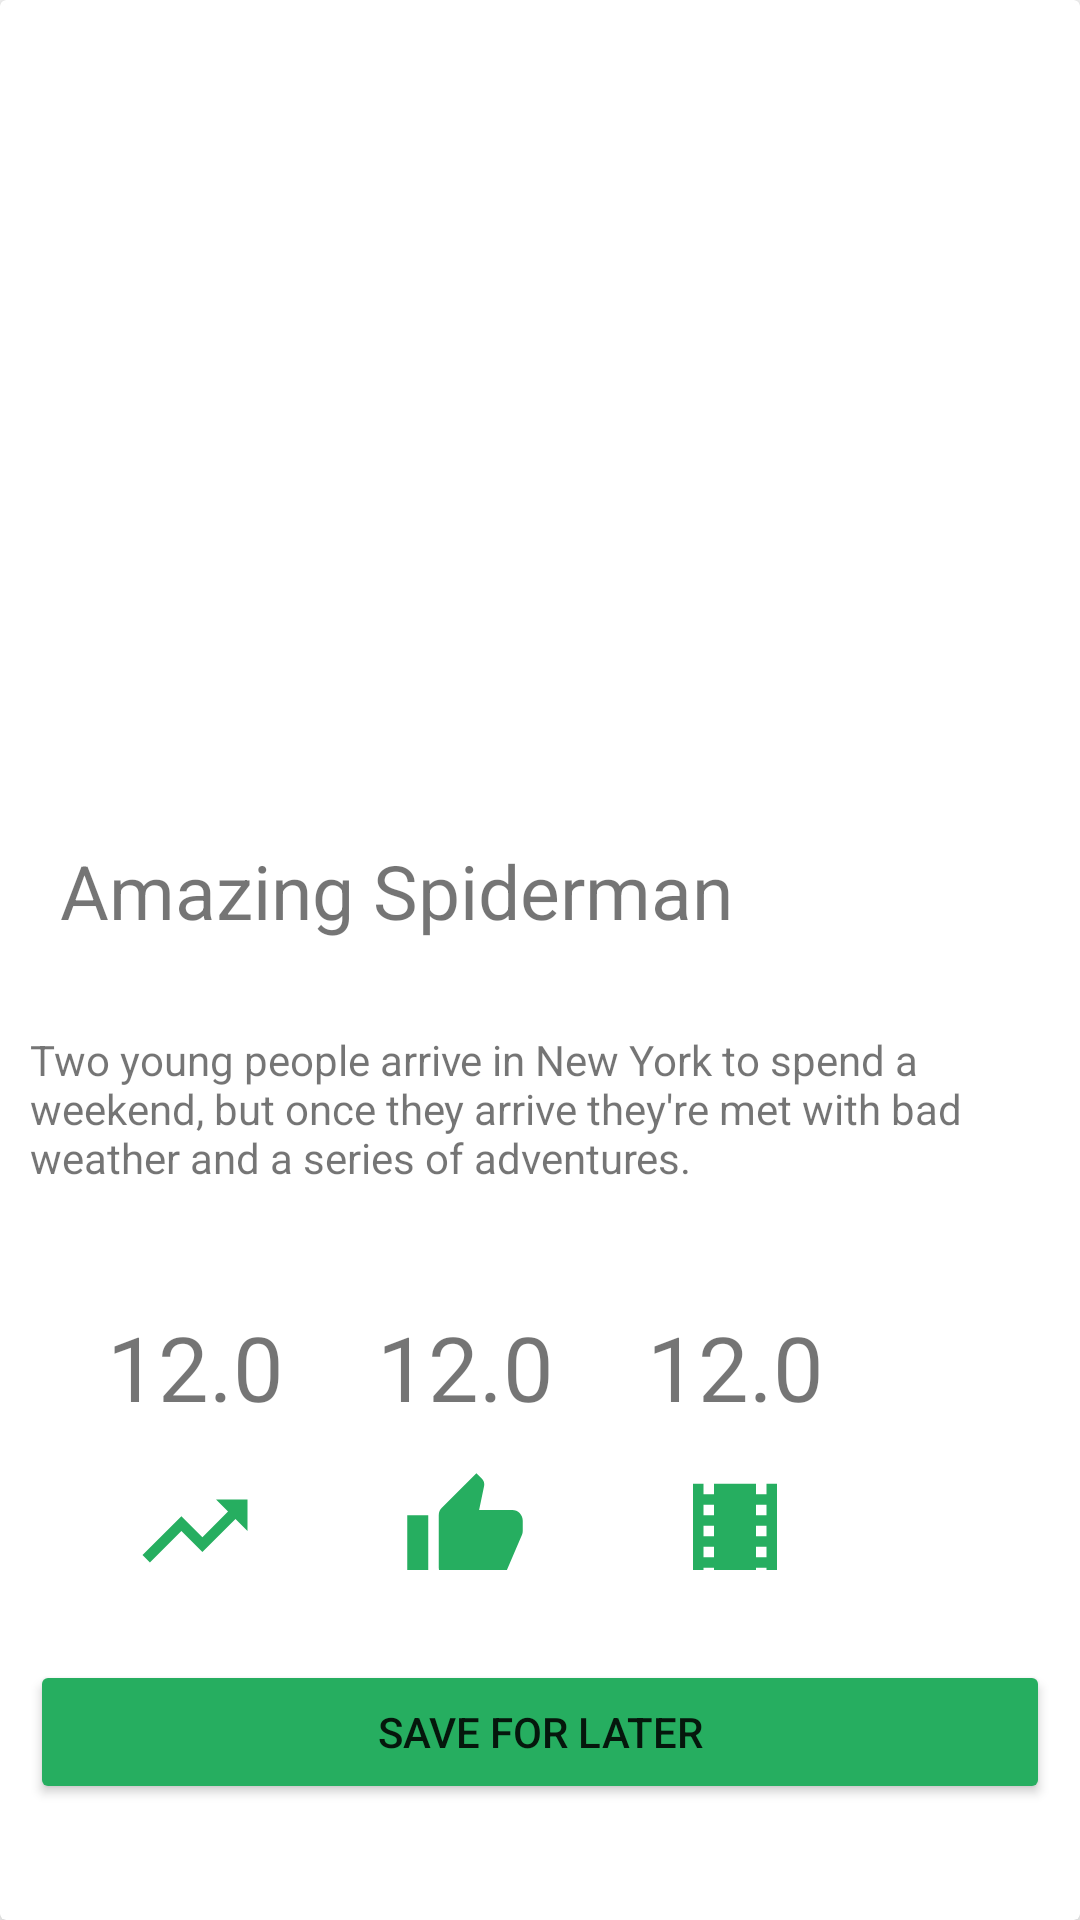

Named icons in this screenshot (1080 x 1920) and their centers, point (x, y):
popularity: point (195, 1531)
